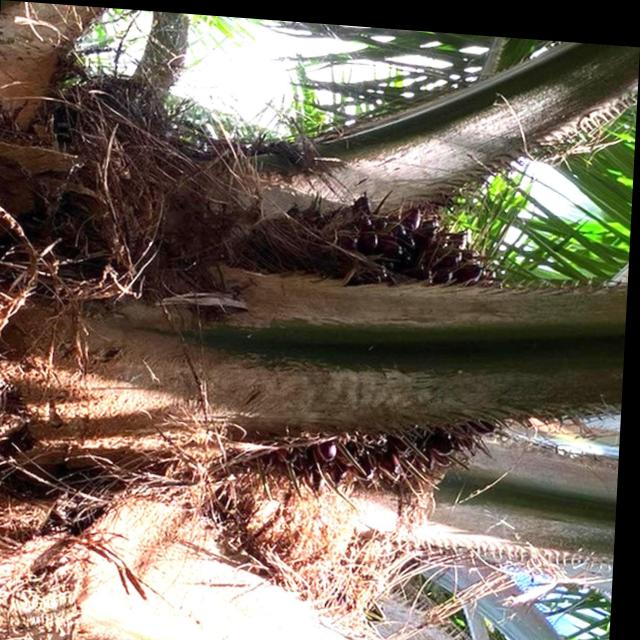ripe: (191, 192, 510, 484)
